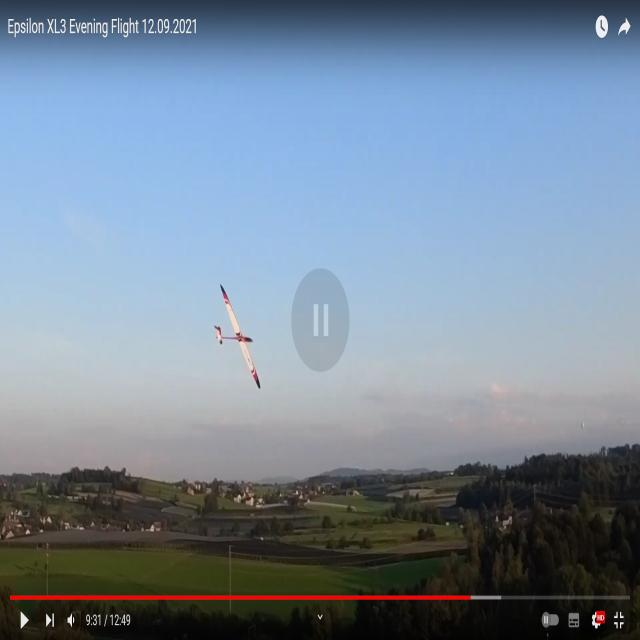iha: (214, 317, 263, 356)
